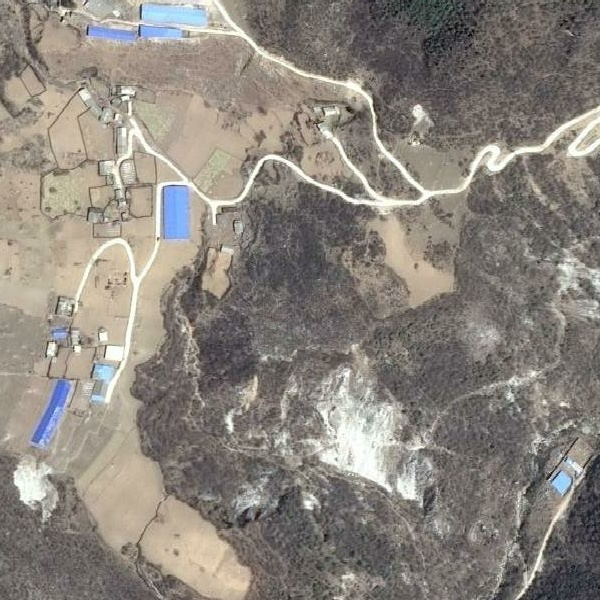slope: (303, 358, 437, 507), (545, 245, 599, 327), (10, 450, 64, 524), (405, 100, 437, 150)
